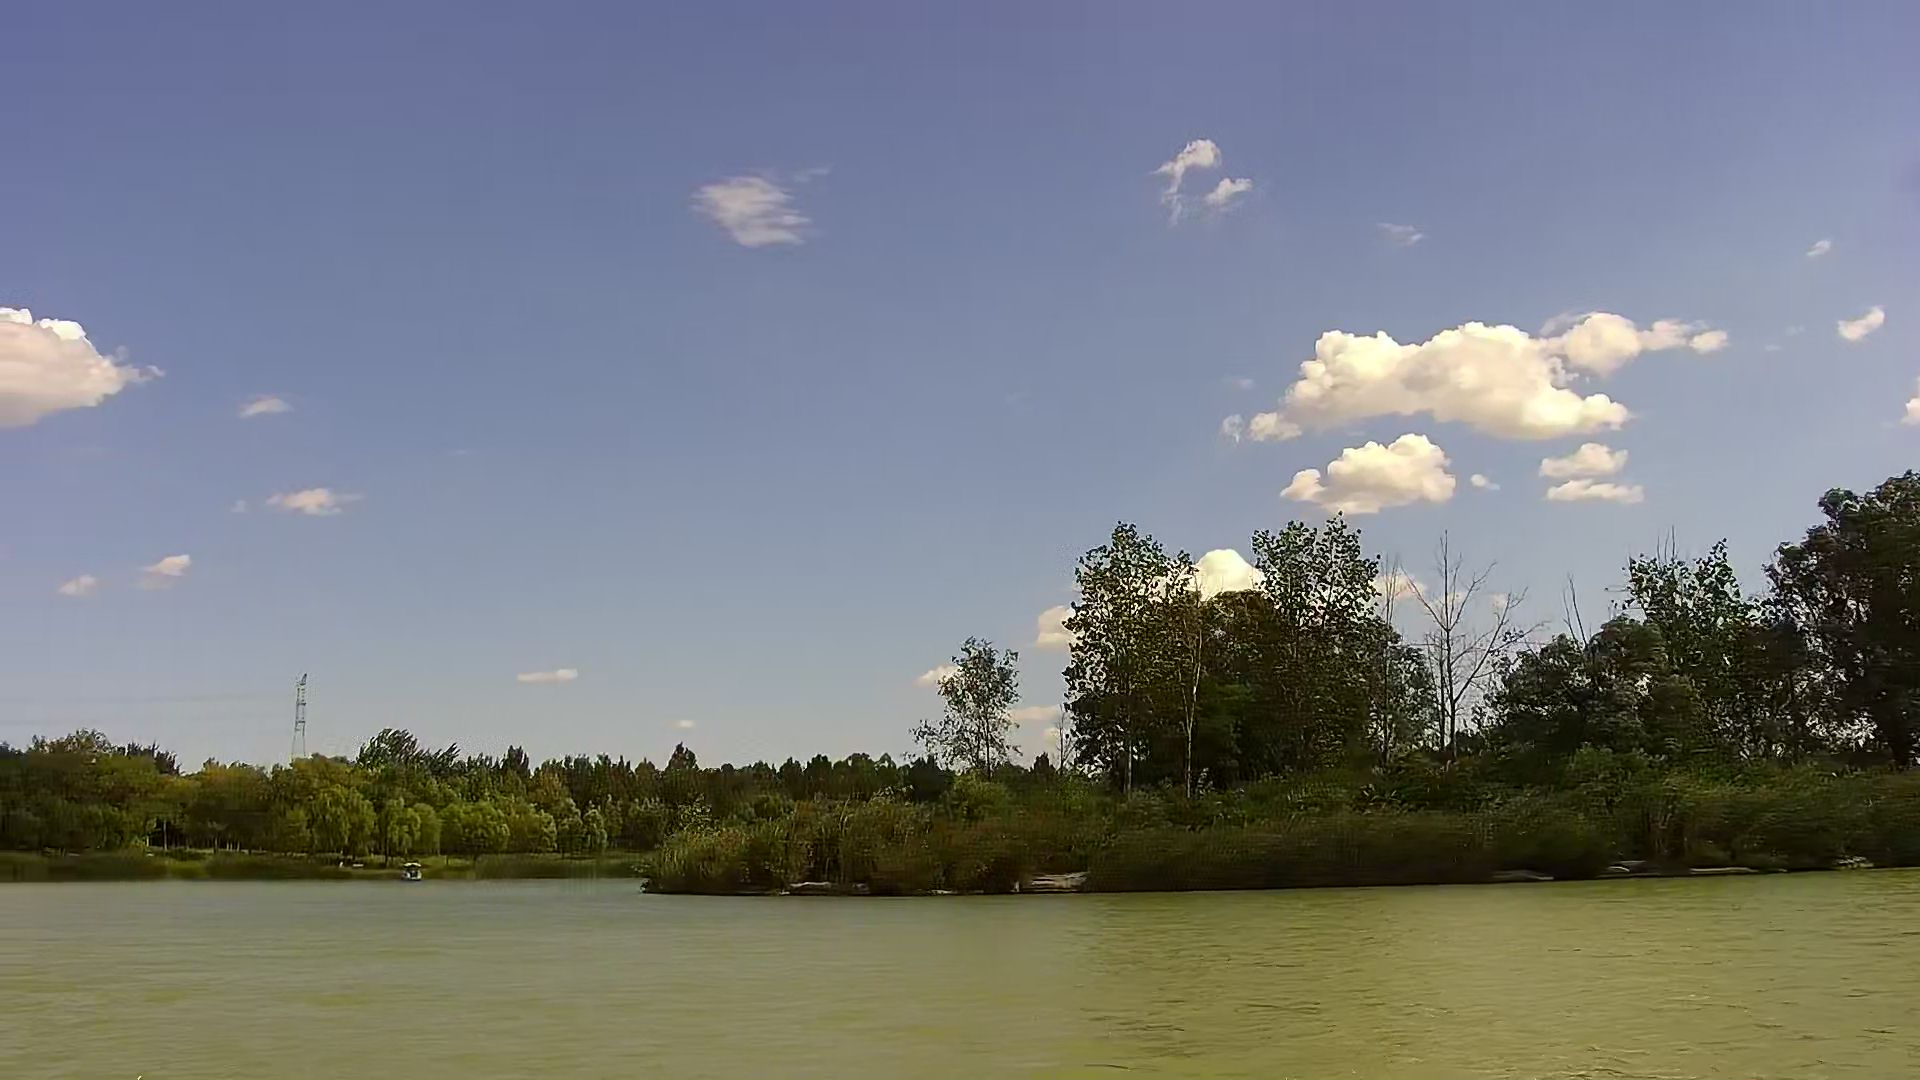rock: (1011, 865, 1083, 889), (789, 877, 852, 895)
